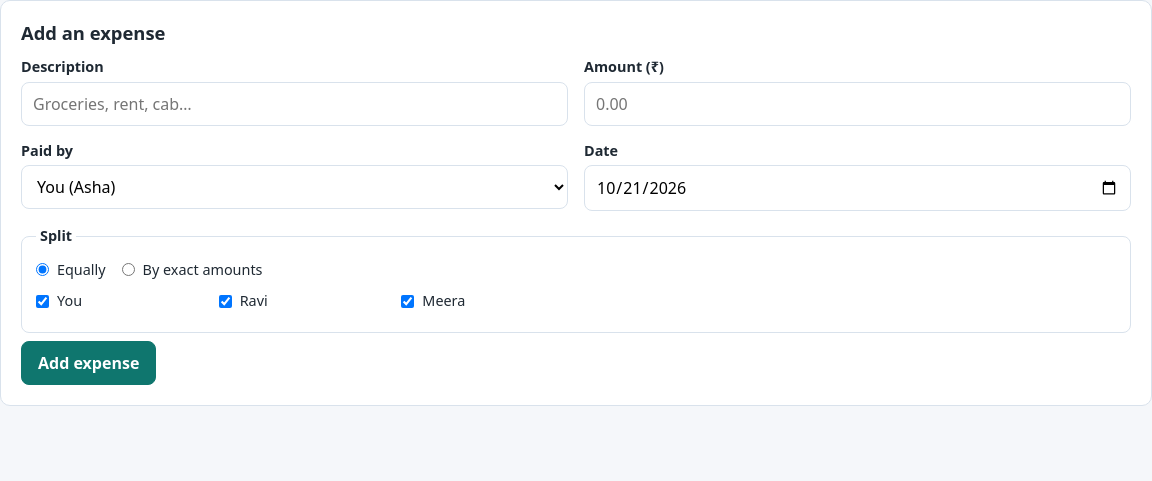
ExpenseForm › shows the server's message when saving fails, and keeps what was typed
This screenshot has width=1152, height=481.
Type "Cab" into the field labelled "Description".
click(294, 104); type("Cab")  # box [21, 82, 568, 126]
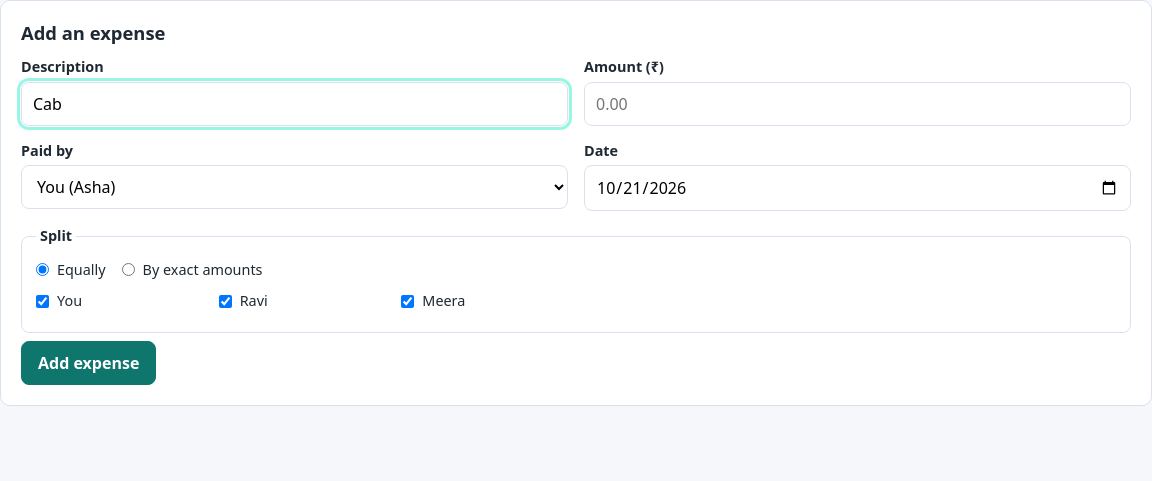
Type "450" into the field labelled "Amount (₹)".
click(858, 104); type("450")  # box [584, 82, 1131, 126]
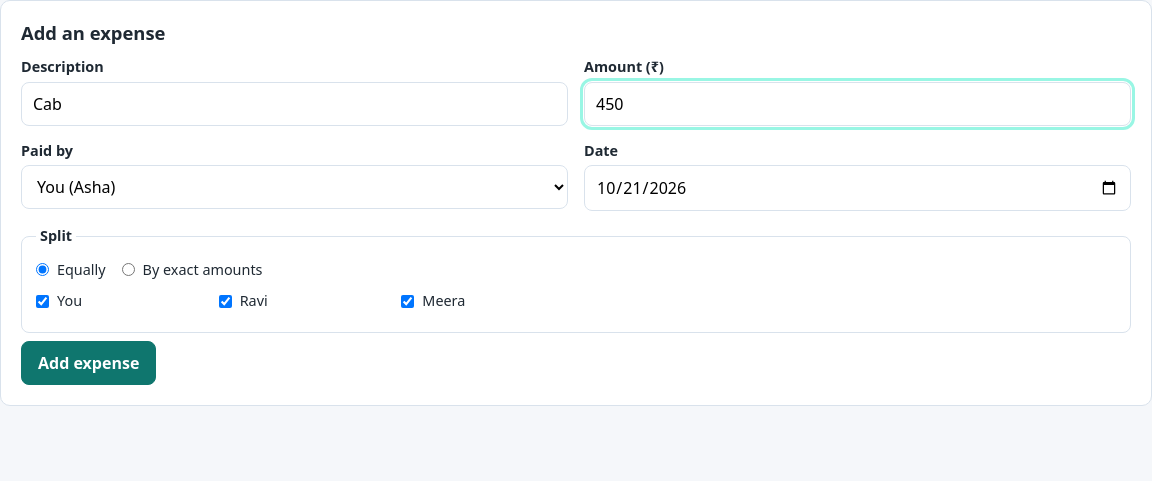
Click the button "Add expense".
click(89, 363)  # box [21, 341, 156, 385]
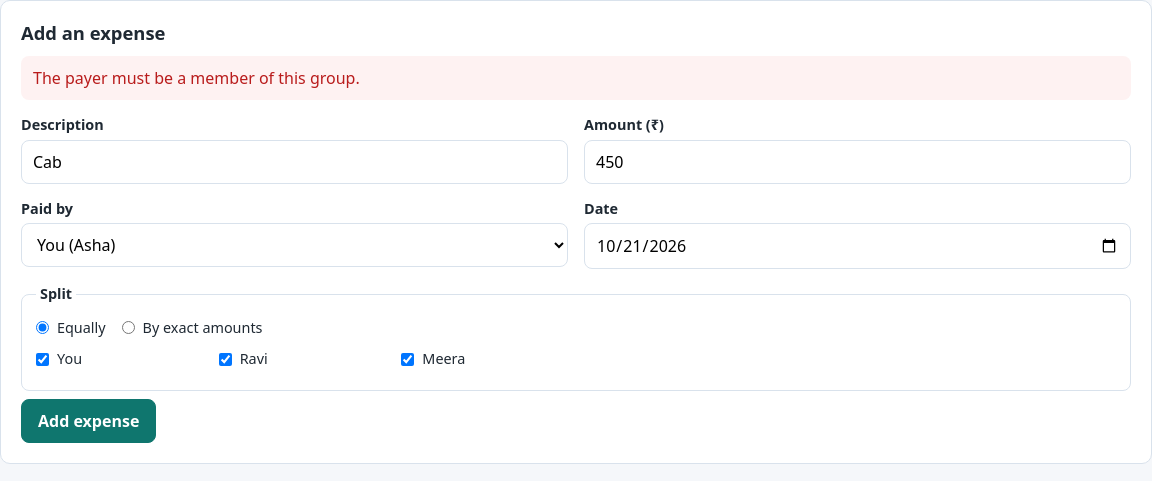
Now the message reads "The payer must be a member of this group.", box [33, 67, 360, 89]
